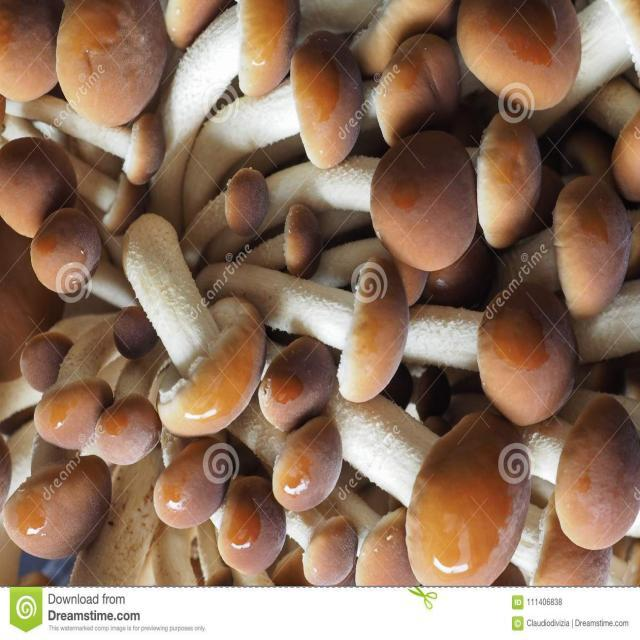Agrocybe aegerita: (287, 390, 530, 583), (204, 146, 479, 269), (198, 247, 404, 404), (122, 214, 263, 432)
